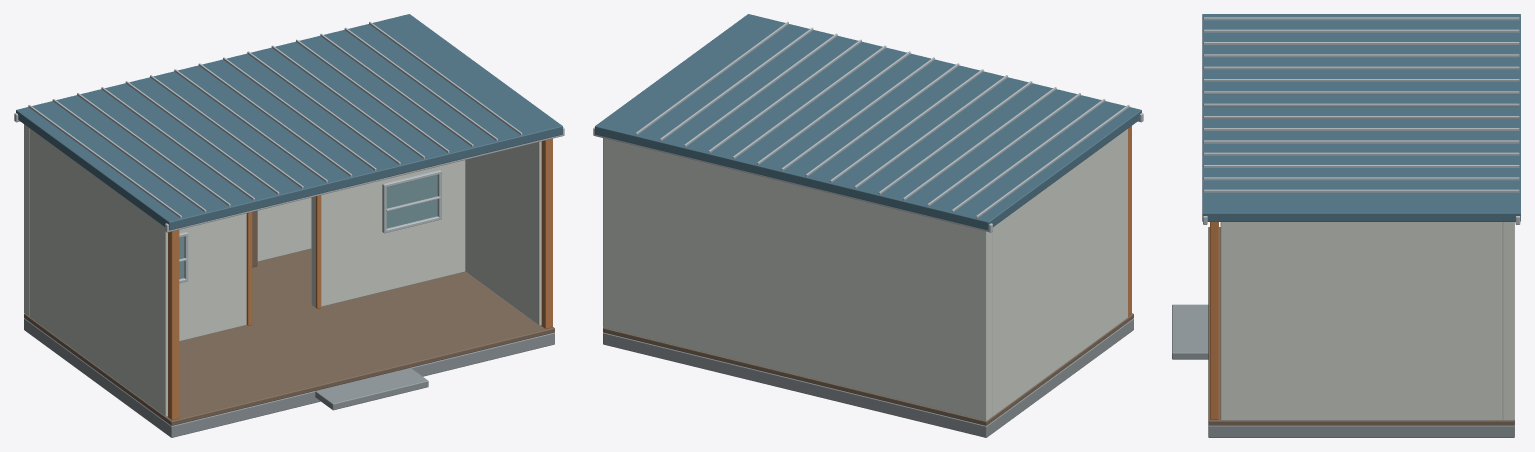
Rendered from abandoned-weather-station-and-storm-shelter-roofed-sta-4b96133a__31003.glb.
3 views of the same model, side by side, from view 1: azimuth 30°, elevation 25°; view 2: azimuth 150°, elevation 25°; view 3: azimuth 270°, elevation 25° (orthographic). The views are drawn at different scales.
Visible parts, largest first — view 1: roofed-station-house; view 2: roofed-station-house; view 3: roofed-station-house.
Part boxes in pixels (<box>): roofed-station-house: <box>14,14,564,437</box>; roofed-station-house: <box>593,14,1143,437</box>; roofed-station-house: <box>1172,14,1520,437</box>.
Bounding box in the file's own units: 6.22 × 3.32 × 4.56.
